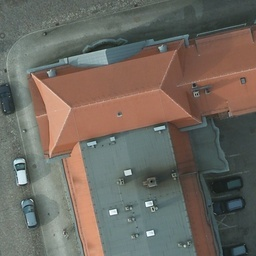car: (209, 176, 245, 194), (21, 197, 39, 229), (0, 83, 17, 116), (211, 199, 246, 213), (13, 158, 28, 188)
